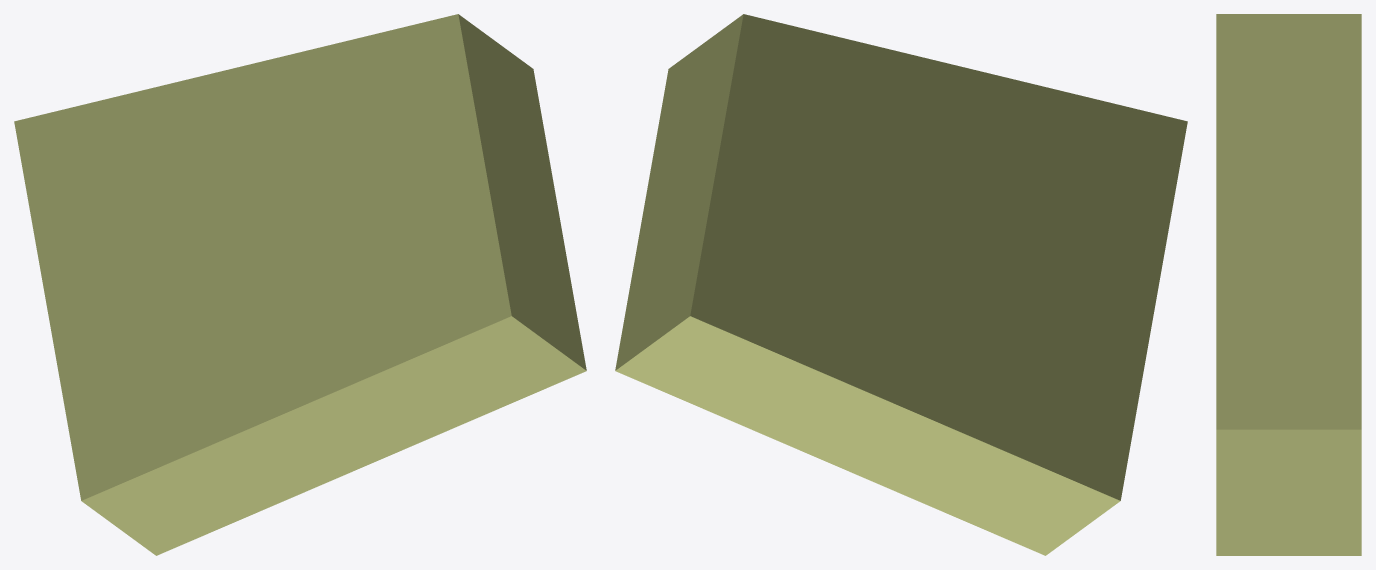
3 renders of one model, left to right at view 1: azimuth 30°, elevation 25°; view 2: azimuth 150°, elevation 25°; view 3: azimuth 270°, elevation 25°, orthographic. The views are drawn at different scales.
Visible parts, largest first — view 1: 0_2_0_1_1_1_2_2_1; view 2: 0_2_0_1_1_1_2_2_1; view 3: 0_2_0_1_1_1_2_2_1.
Boxes of the visible parts, x1=… form: 0_2_0_1_1_1_2_2_1: x1=14, y1=14, x2=586, y2=555; 0_2_0_1_1_1_2_2_1: x1=615, y1=14, x2=1187, y2=555; 0_2_0_1_1_1_2_2_1: x1=1216, y1=14, x2=1361, y2=555.
Size of the model in its own units: 22.95 by 17.45 by 6.
